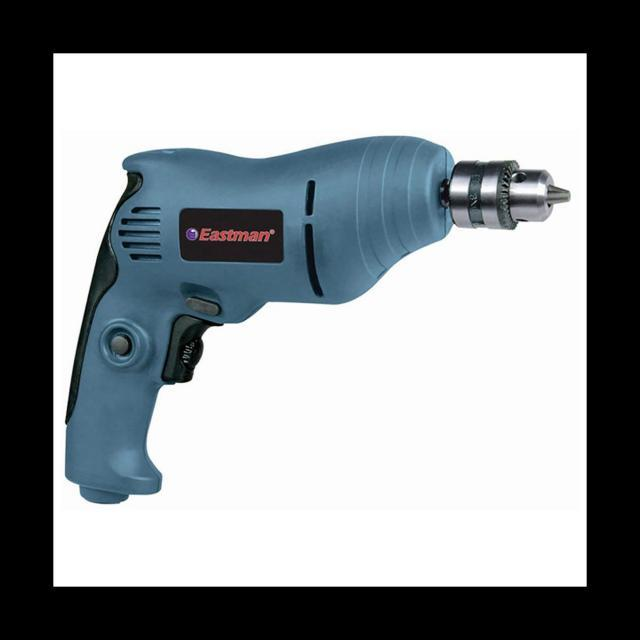drill: (64, 135, 572, 506)
